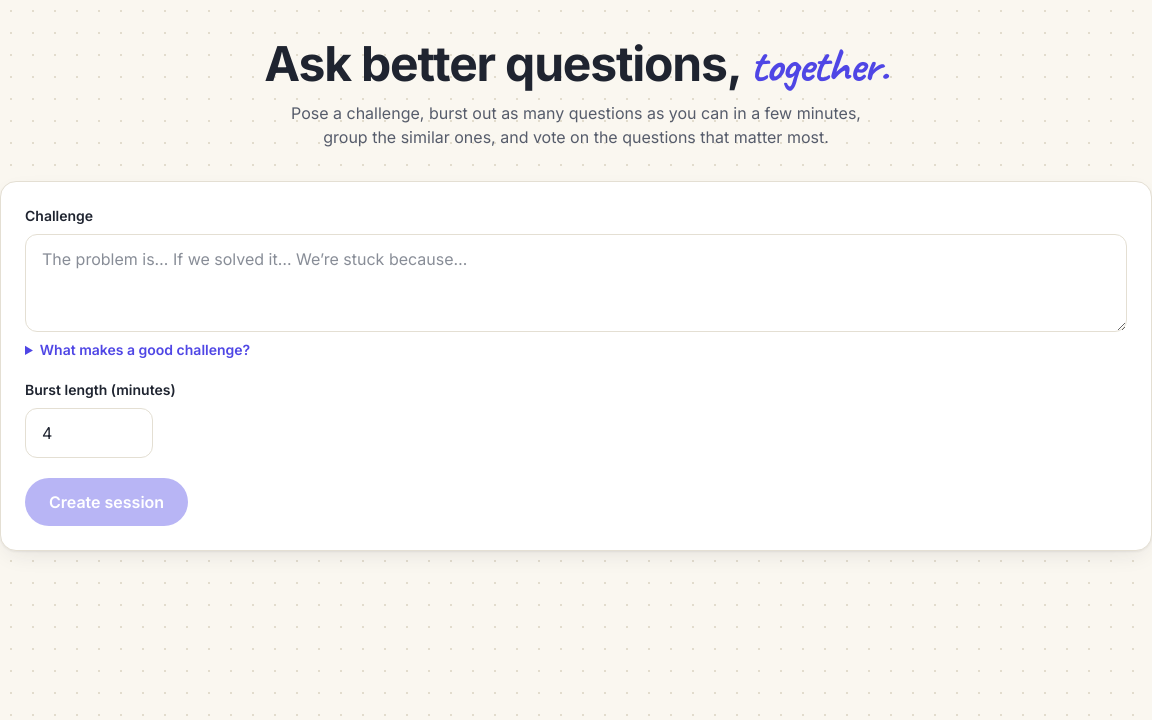
Scenario: CreateSession › shows the error message when creating the session fails
Type "Why?" into the text box labelled "Challenge".
click(576, 283); type("Why?")  # box [25,234,1127,332]
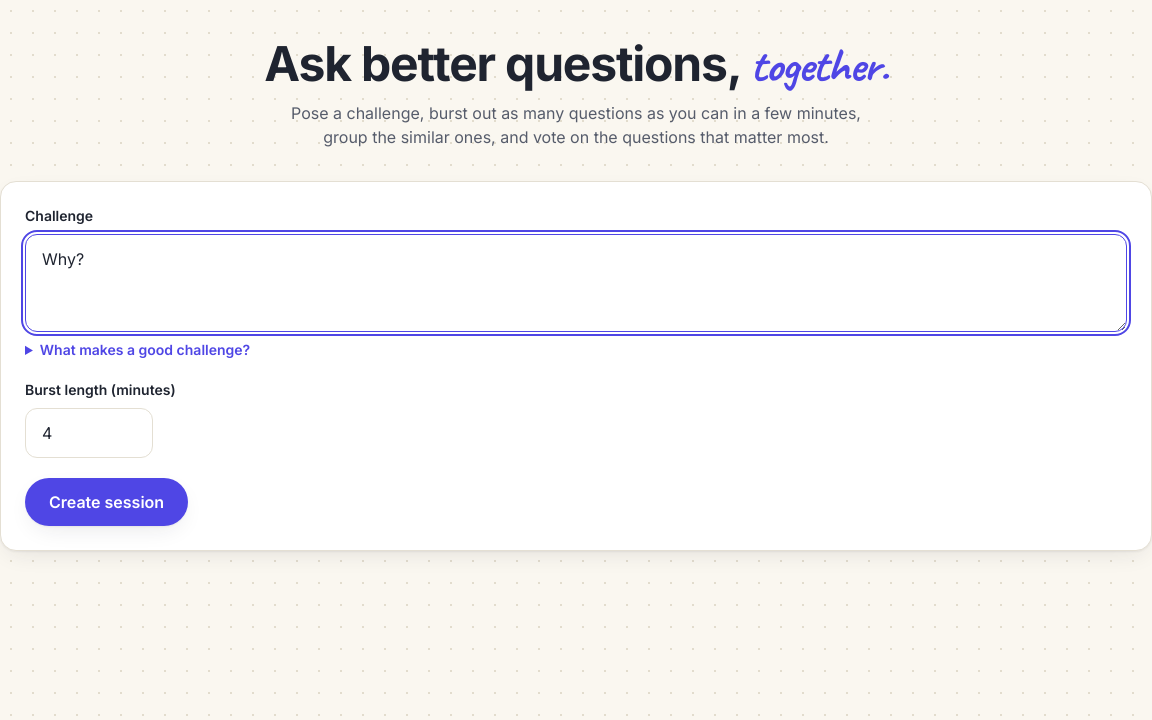
Click the button "Create session".
click(107, 502)  # box [25,478,188,526]
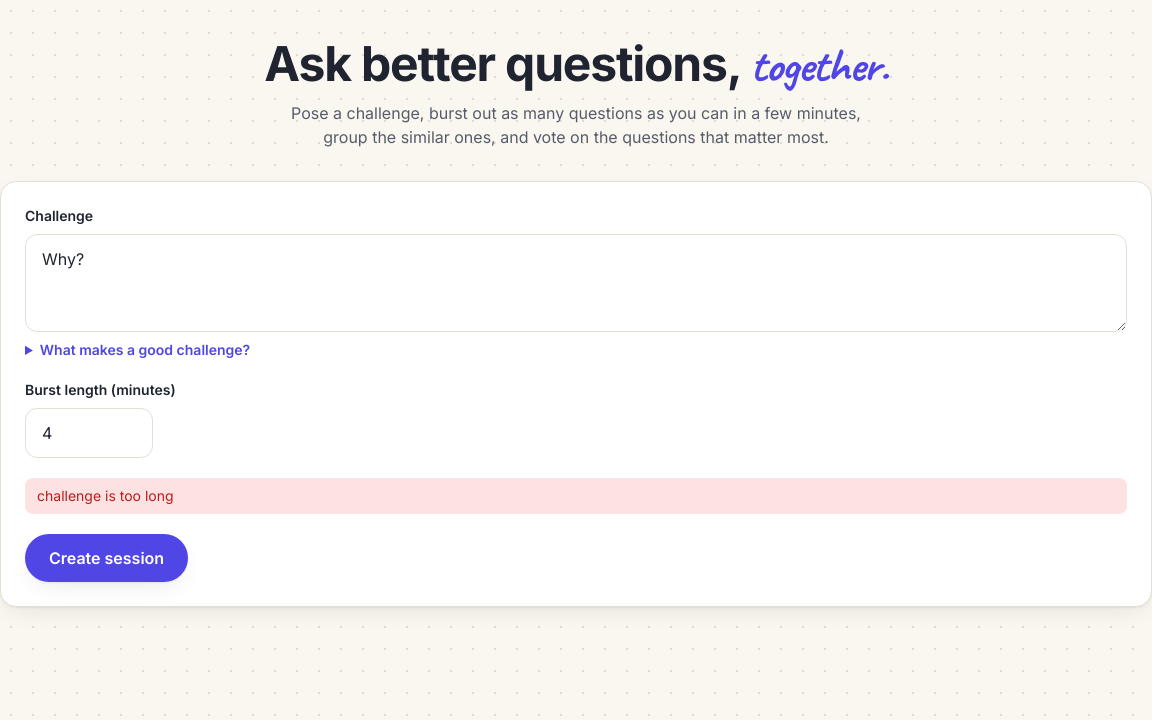
Result: the message reads "challenge is too long" at [37,487,174,504]
